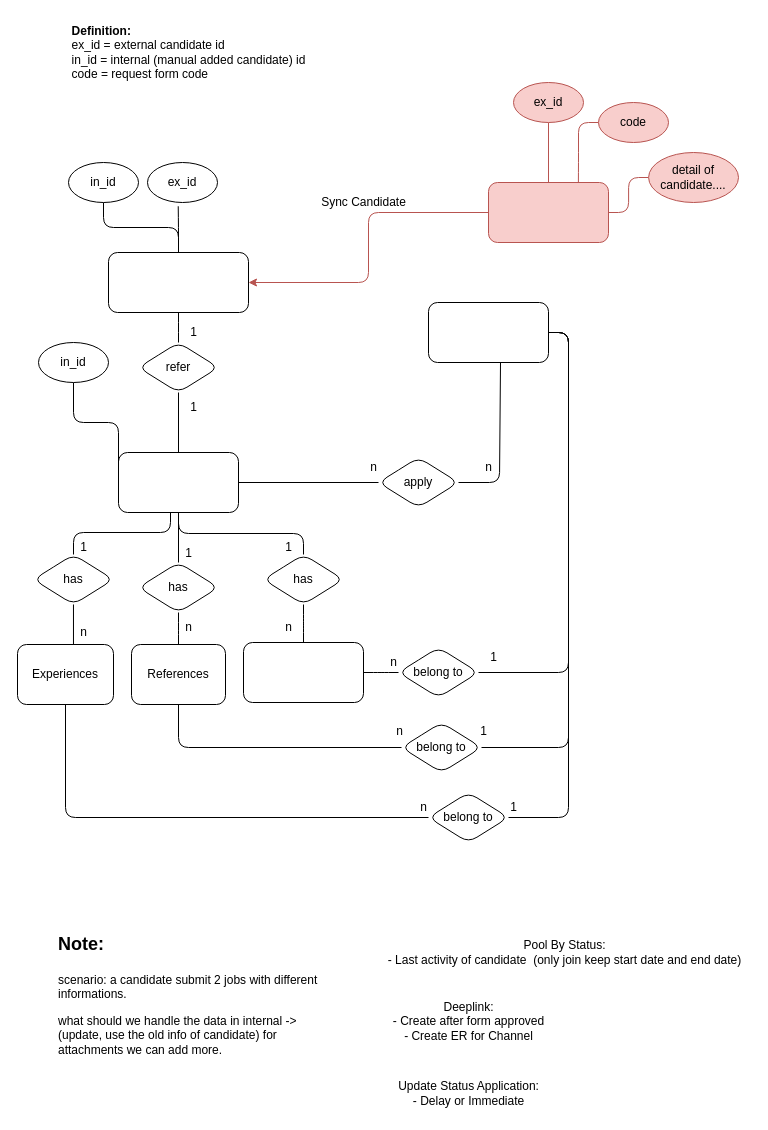
Image size: 768x1130. Some labels were removed from this diagram. The shapes that lost their labels are listed below. From the top down, each one's box as (x1, y1, x2, y2) in pixels, then its label:
(488, 182, 608, 242): Application Pool
(108, 252, 248, 312): Candidate Pool Integration
(428, 302, 548, 362): Request Forms
(118, 452, 238, 512): Candidates
(242, 642, 364, 702): Qualifications
